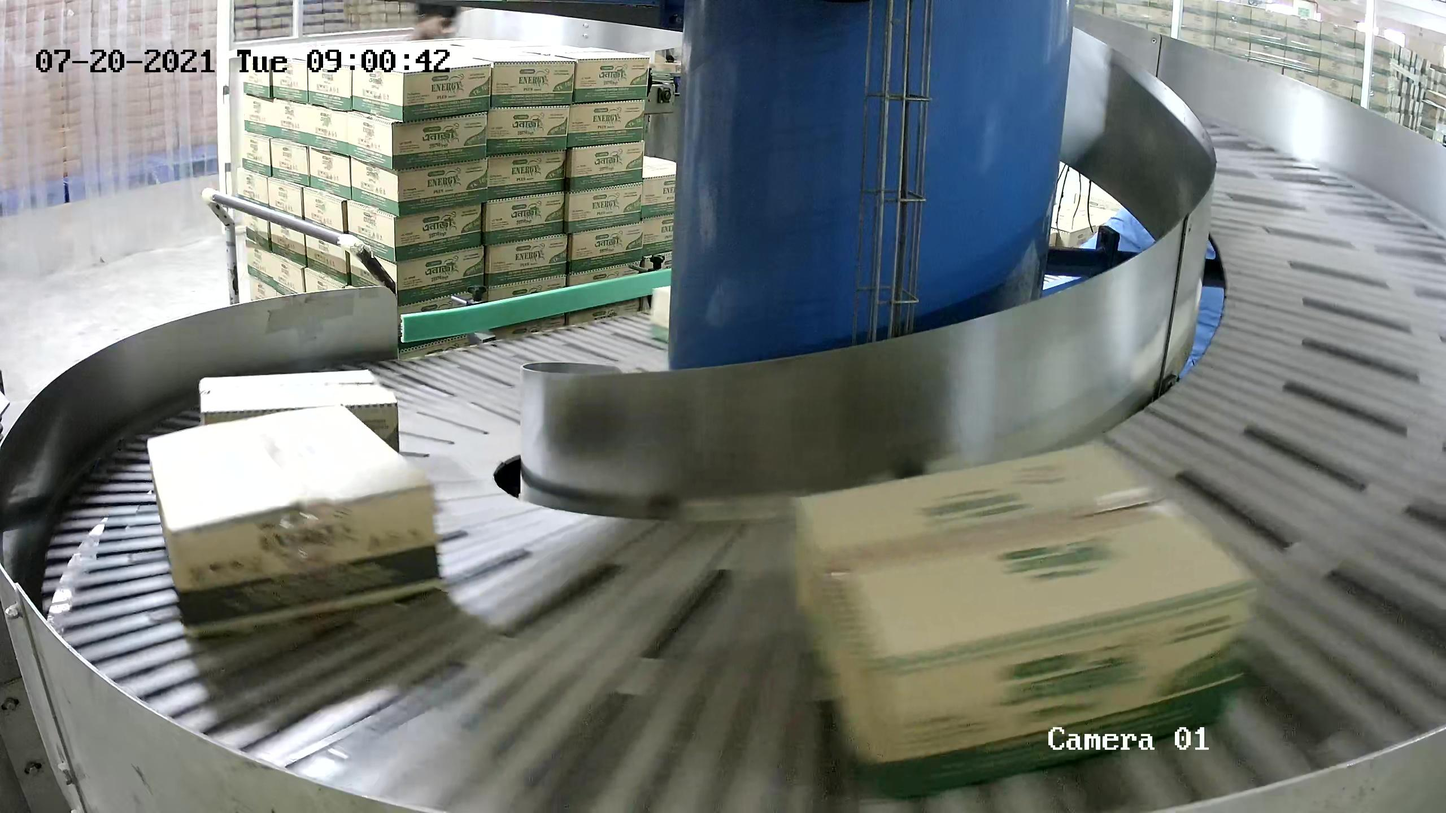Box: (780, 424, 1265, 804), (144, 396, 448, 642), (645, 283, 673, 345)
